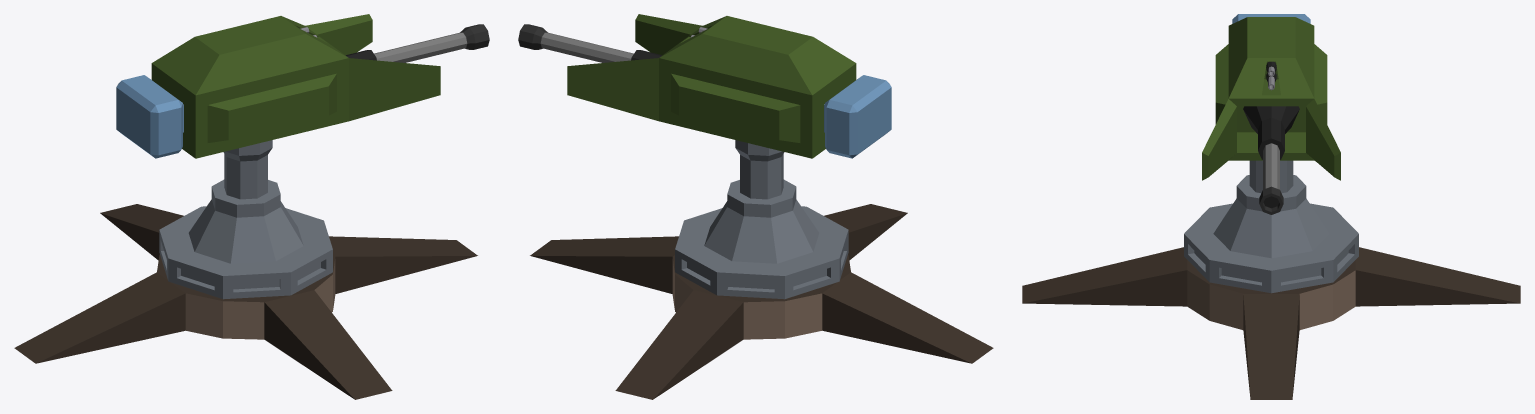
The model's file is Turret 5.fbx.
3 renders of one model, left to right at view 1: azimuth 30°, elevation 25°; view 2: azimuth 150°, elevation 25°; view 3: azimuth 270°, elevation 25°, orthographic. The views are drawn at different scales.
Visible parts, largest first — view 1: Куб.031, Куб.035; view 2: Куб.031, Куб.035; view 3: Куб.031, Куб.035.
Part boxes in pixels (x1,y1,x2,y2): Куб.031: [14, 140, 477, 399]; Куб.035: [116, 14, 489, 158]; Куб.031: [530, 140, 993, 399]; Куб.035: [518, 14, 891, 158]; Куб.031: [1022, 160, 1520, 399]; Куб.035: [1202, 14, 1340, 214].
Bounding box in the file's own units: 131 × 72.51 × 126.
